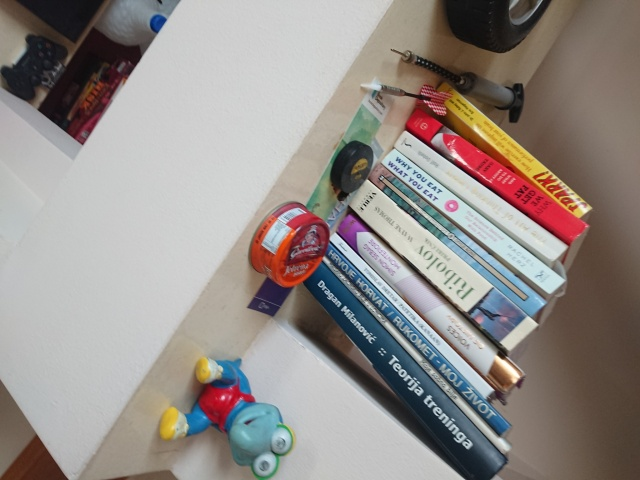Gavrilovic Pork Liver Pate 100g: (246, 197, 331, 290)
